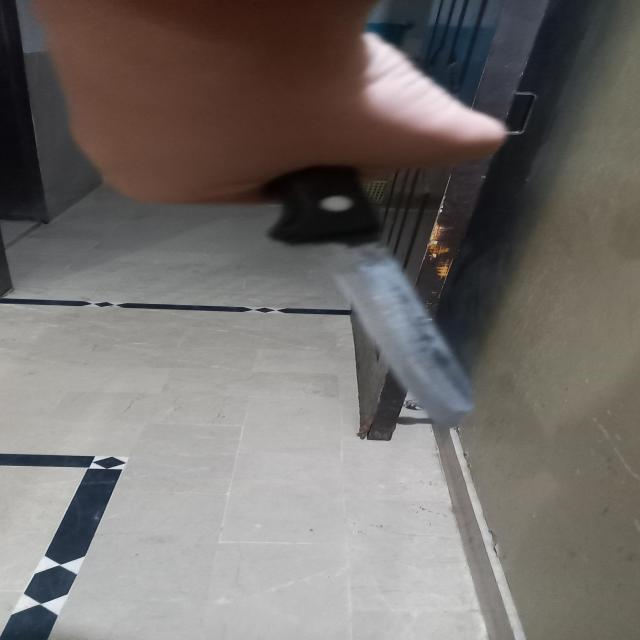Knife: (262, 167, 494, 428)
Person: (0, 0, 506, 205)
